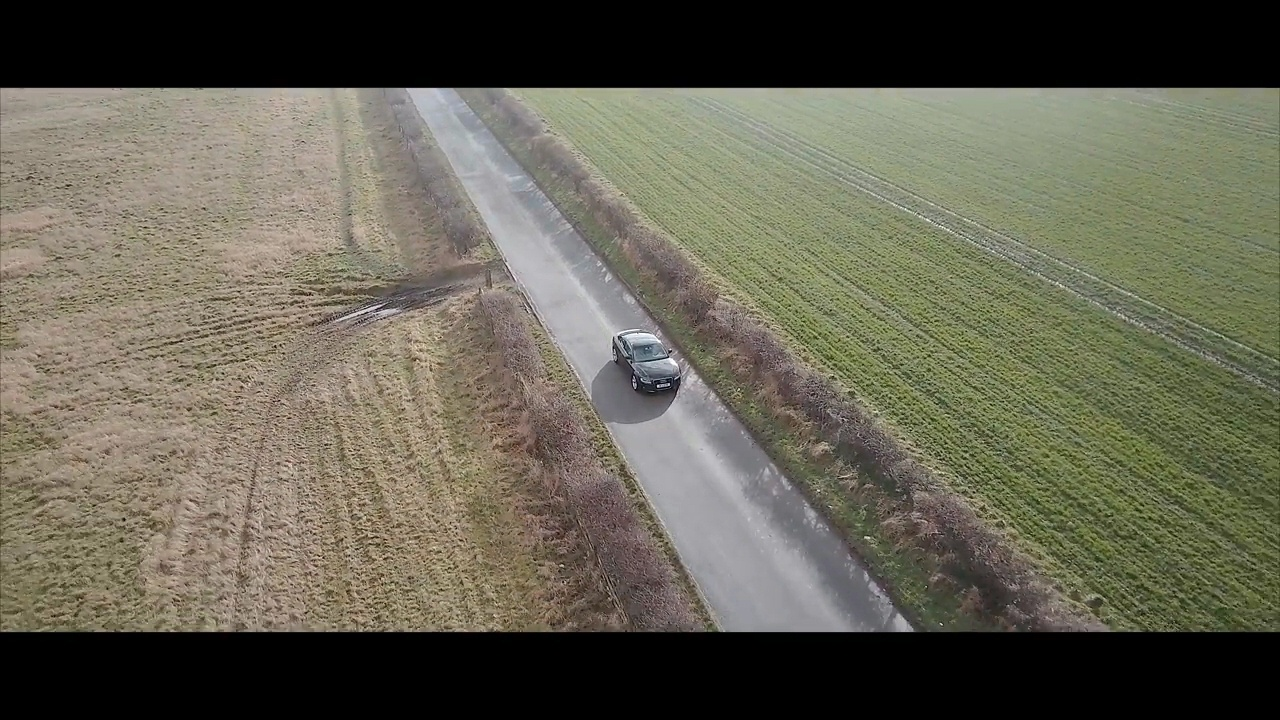araba: (609, 326, 682, 398)
